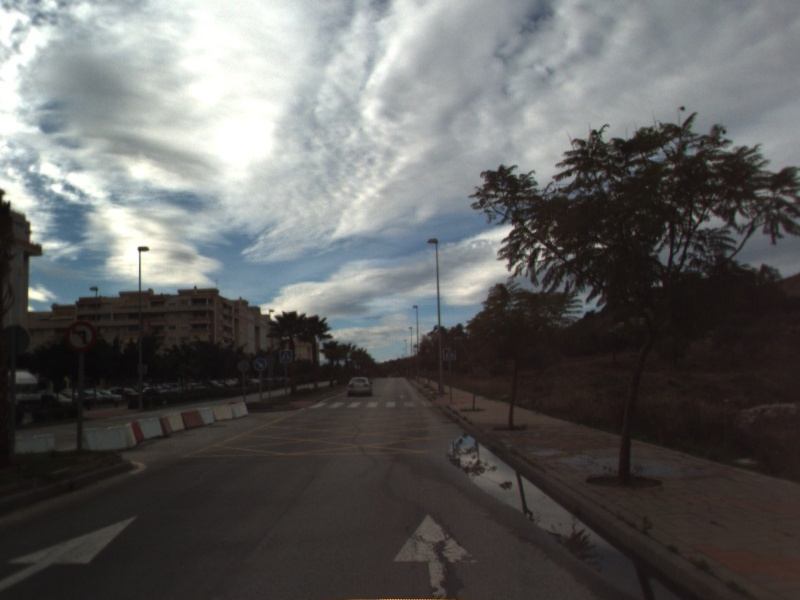STRAIGHT: (1, 513, 141, 594), (391, 511, 482, 600)
